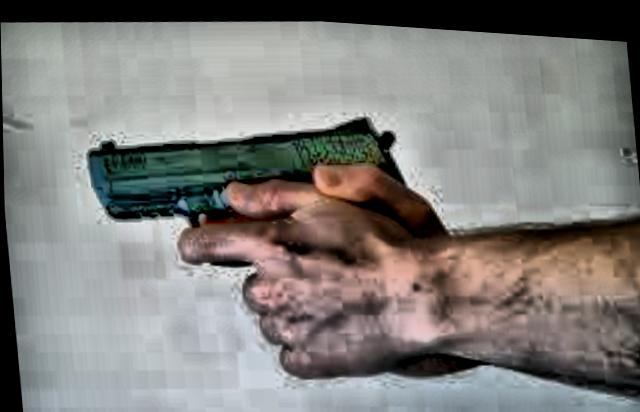pistol: (66, 63, 428, 287)
